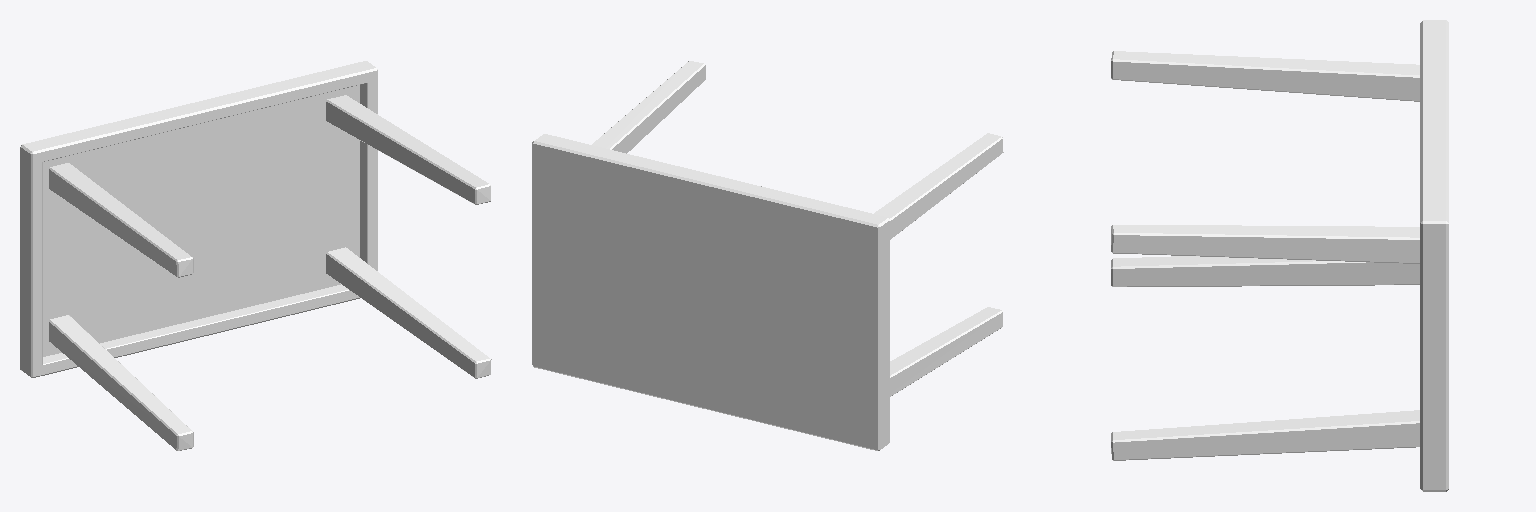
robot.urdf — wooden_table:
<?xml version="1.0" ?>
<robot name="wooden_table">
  <link name="baseLink">
    <contact>
      <lateral_friction value="1.0"/>
      <rolling_friction value="0.0"/>
      <contact_cfm value="0.0"/>
      <contact_erp value="1.0"/>
    </contact>
    <inertial>
      <origin rpy="0 0 0" xyz="0 0 0"/>
       <mass value="1.0"/>
       <inertia ixx="1" ixy="0" ixz="0" iyy="1" iyz="0" izz="1"/>
    </inertial>
    <visual>
      <origin rpy="0 0 0" xyz="0 0 0"/>
      <geometry>
				<mesh filename="wooden_table.obj" scale="1 1 1"/>
      </geometry>
       <material name="white">
        <color rgba="1 1 1 1"/>
      </material>
    </visual>
    <collision>
      <origin rpy="0 0 0" xyz="0 0 0"/>
      <geometry>
	 	<box size="1 1 1"/>
      </geometry>
    </collision>
  </link>
</robot>

--- What the picture shows (computed from the rendered views, not written in the file) ---
Views: 3 orthographic renders of the robot side by side, from view 1: azimuth 30°, elevation 25°; view 2: azimuth 150°, elevation 25°; view 3: azimuth 270°, elevation 25°.
Model wooden_table with 1 links and 0 joints (none), rooted at baseLink, posed every joint at zero.
Links seen in each view (by area): view 1: baseLink; view 2: baseLink; view 3: baseLink.
Link boxes in pixels (x1,y1,x2,y2): baseLink: [20, 61, 491, 450]; baseLink: [532, 61, 1003, 450]; baseLink: [1111, 20, 1448, 491].
Bounding box of the posed robot: 1.13 × 0.7995 × 0.706 m (x, y, z).
1 mesh visuals loaded from 1 distinct referenced files (1 OBJ).